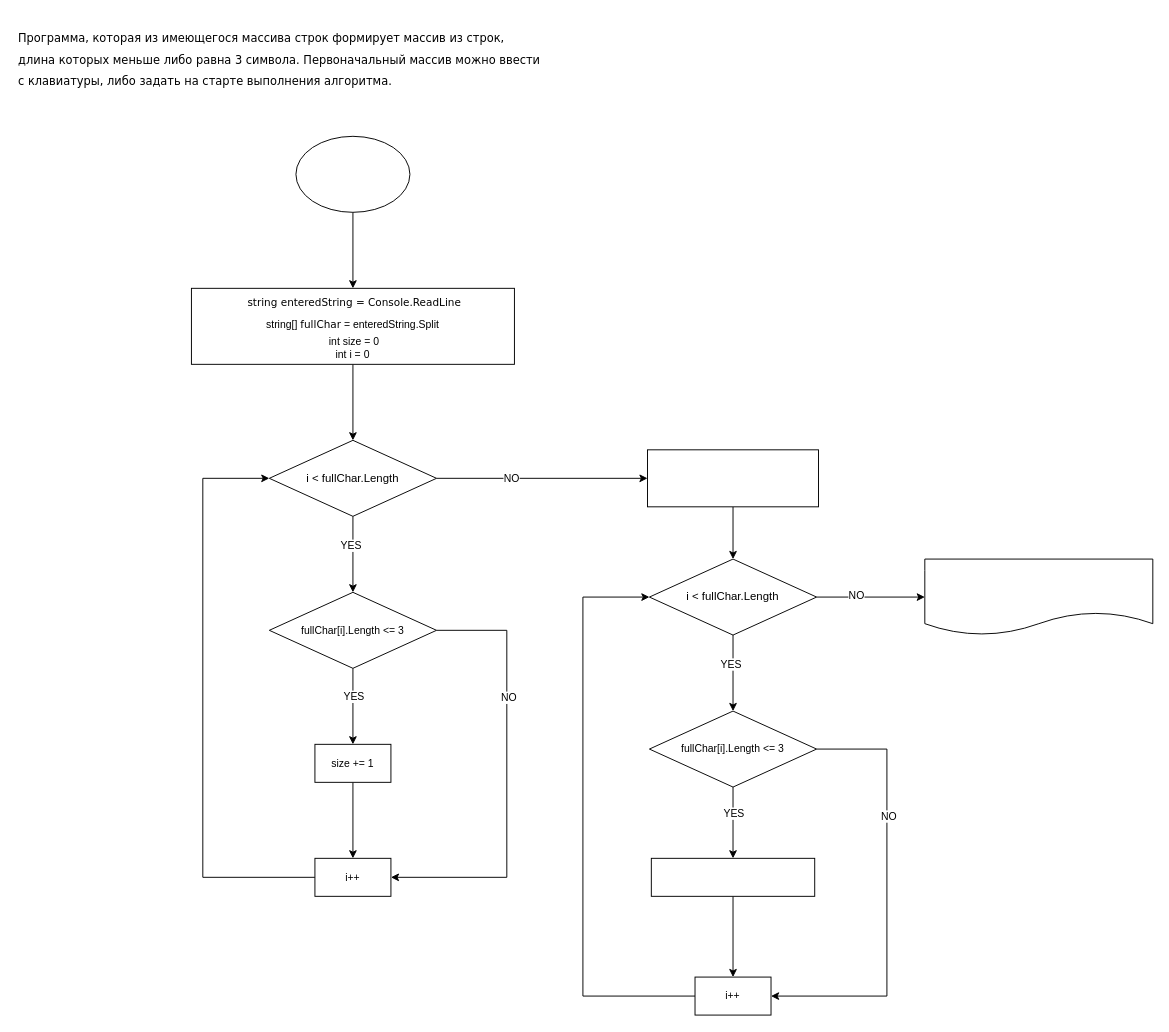
The diagram is 1169 pixels wide and 1032 high, and some of its shapes have lost their labels. The centre of each missing label's shape, as x and y in pixels:
Console.WriteLine (fullChar) Console.WriteLine (threeChar): the point at 1038,596
start: the point at 352,173
string[] three Char = new string [size] int j = 0 int i =0: the point at 733,478
threeChar[j] = fullChar [i] j ++: the point at 732,876
